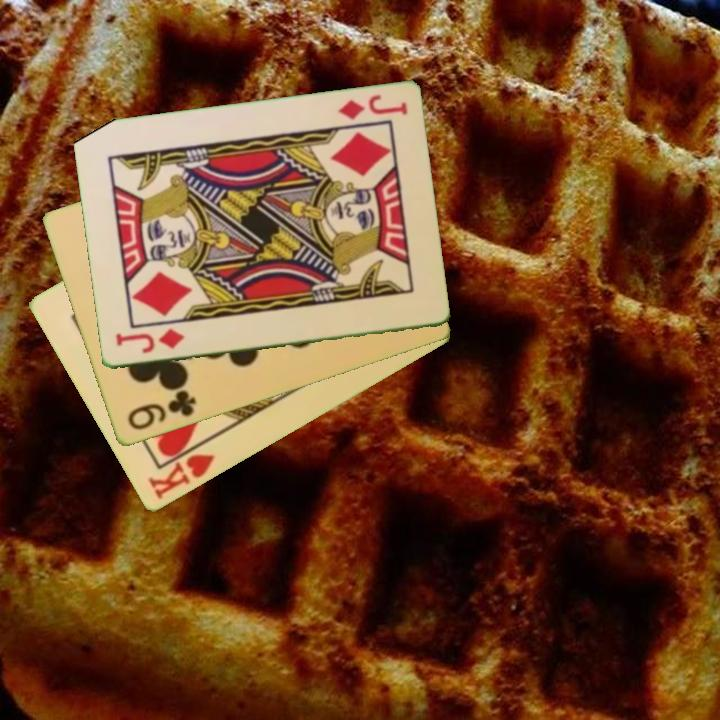9c: (123, 387, 199, 434)
Jd: (333, 91, 410, 124), (111, 325, 187, 357)
Kh: (144, 437, 218, 503)
